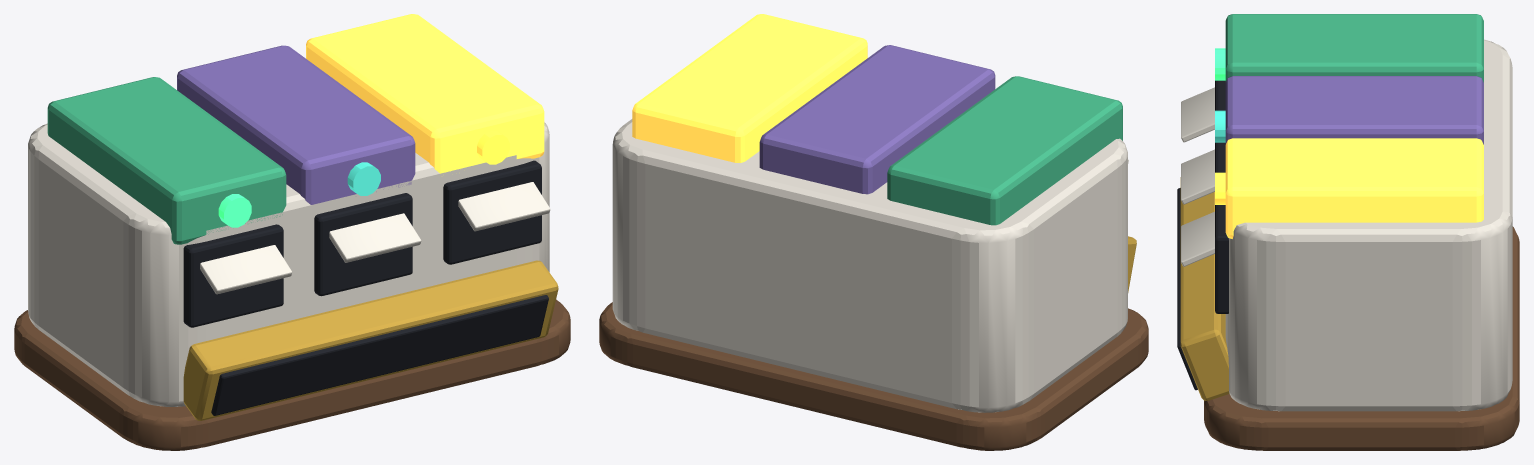
File: SpatialMailbox.fbx
3 views of the same model, side by side, from view 1: azimuth 30°, elevation 25°; view 2: azimuth 150°, elevation 25°; view 3: azimuth 270°, elevation 25° (orthographic).
Visible parts, largest first — view 1: SpatialMailbox_Mesh; view 2: SpatialMailbox_Mesh; view 3: SpatialMailbox_Mesh.
Boxes of the visible parts, <box> form: SpatialMailbox_Mesh: <box>14,14,570,450</box>; SpatialMailbox_Mesh: <box>599,14,1148,450</box>; SpatialMailbox_Mesh: <box>1177,14,1519,450</box>.
Bounding box in the file's own units: 14 × 7.6 × 9.55.
